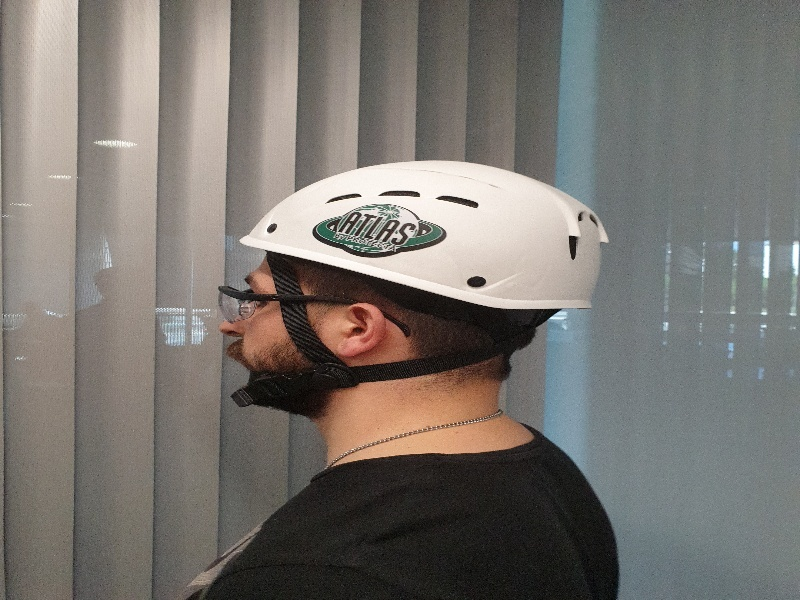Baret: (236, 160, 603, 275)
Gozluk: (215, 283, 413, 337)
